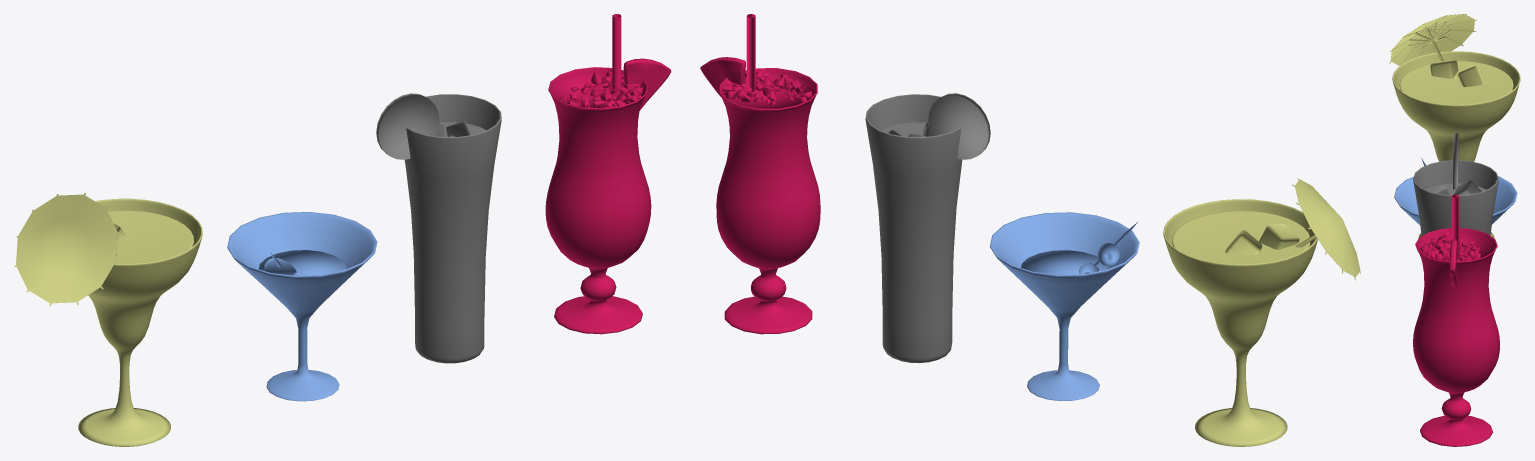
File: 4 drinks.fbx
3 renders of one model, left to right at view 1: azimuth 30°, elevation 25°; view 2: azimuth 150°, elevation 25°; view 3: azimuth 270°, elevation 25°, orthographic. The views are drawn at different scales.
Visible parts, largest first — view 1: base, cylinder, drink1, martini; view 2: drink1, cylinder, base, martini; view 3: cylinder, base, drink1, martini.
Boxes of the visible parts, x1,y1,x2,y2 form: base: [14, 193, 202, 446]; cylinder: [545, 14, 671, 334]; drink1: [376, 93, 501, 363]; martini: [227, 212, 377, 401]; drink1: [865, 93, 990, 363]; cylinder: [700, 14, 820, 334]; base: [1163, 178, 1360, 446]; martini: [989, 212, 1139, 400]; cylinder: [1413, 194, 1499, 446]; base: [1389, 14, 1520, 238]; drink1: [1413, 133, 1498, 235]; martini: [1394, 157, 1517, 225].
Bounding box in the file's own units: 28.21 × 12.28 × 6.03.
